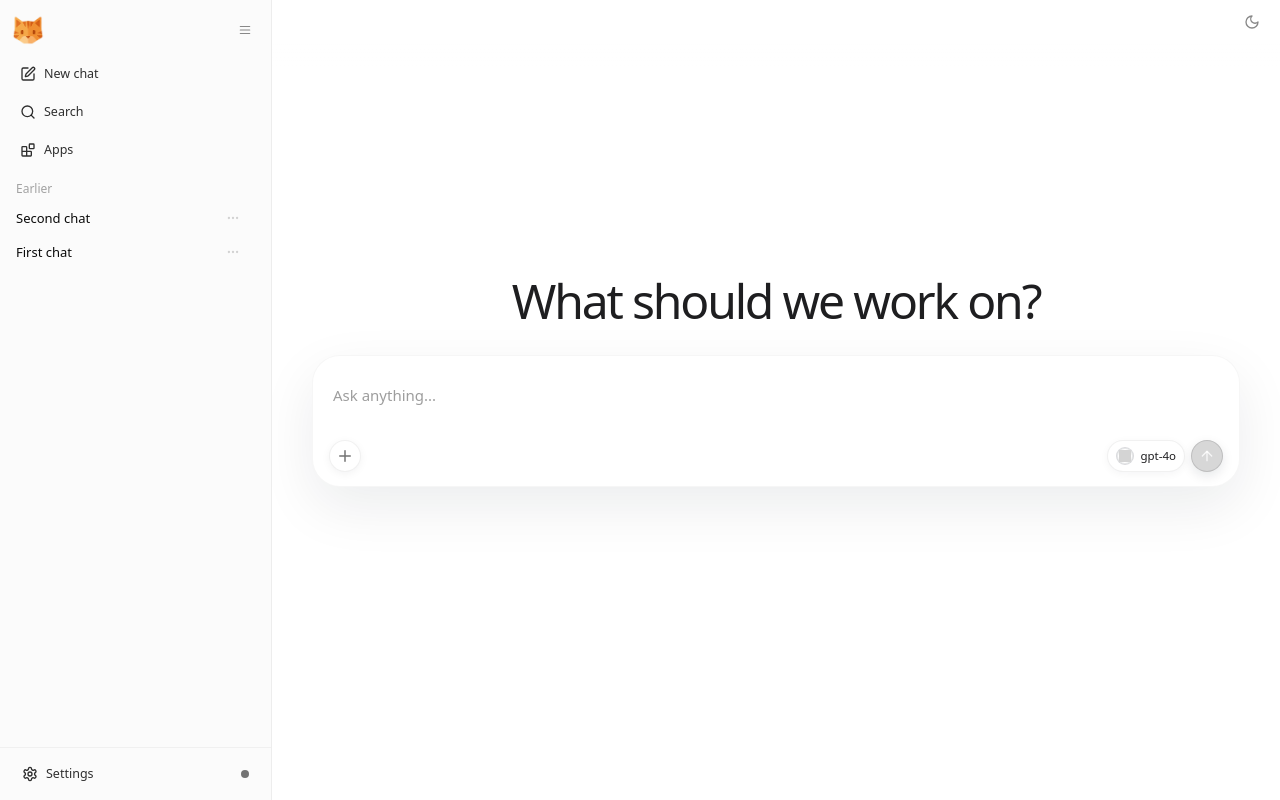
Test: App layout › returns from settings to the blank start page when no session was active
Click the button "New chat": (136, 74) left=8, top=58, right=263, bottom=90
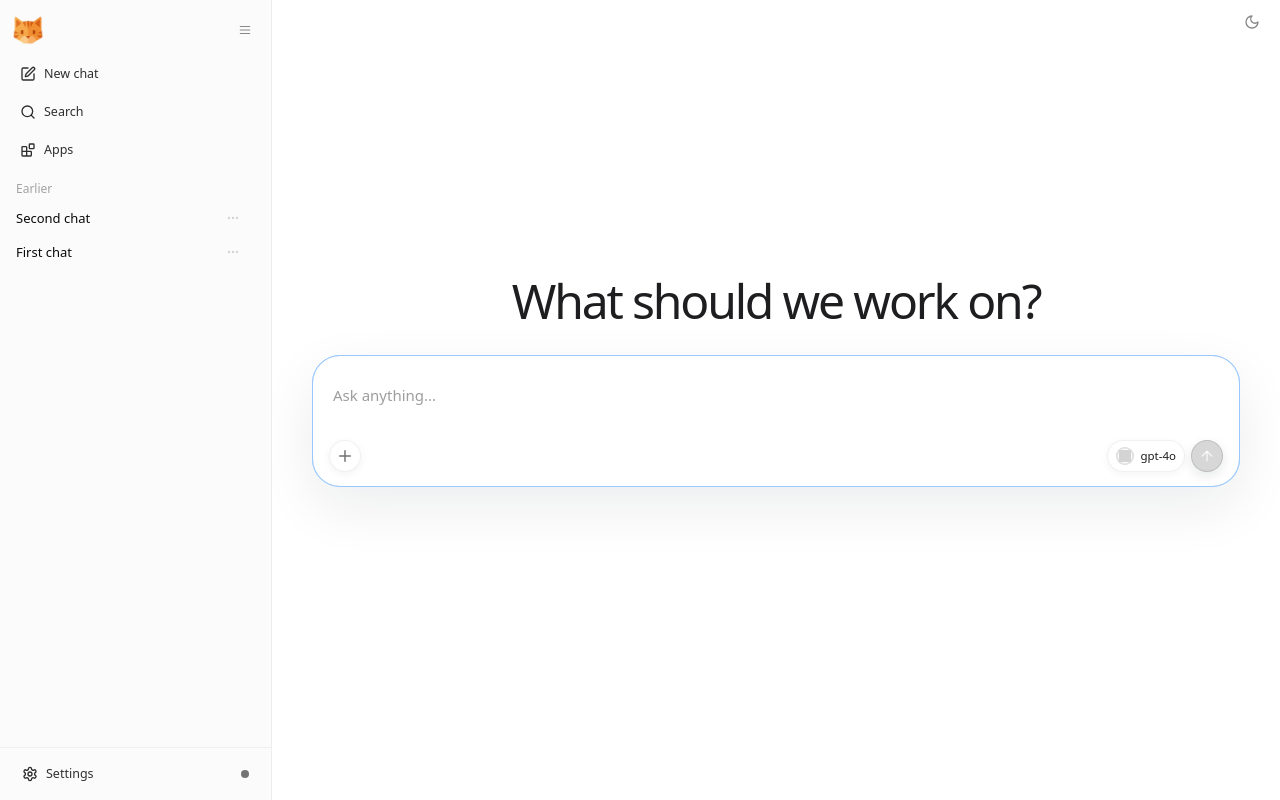
Click the button "Settings": (118, 774) left=10, top=758, right=225, bottom=790
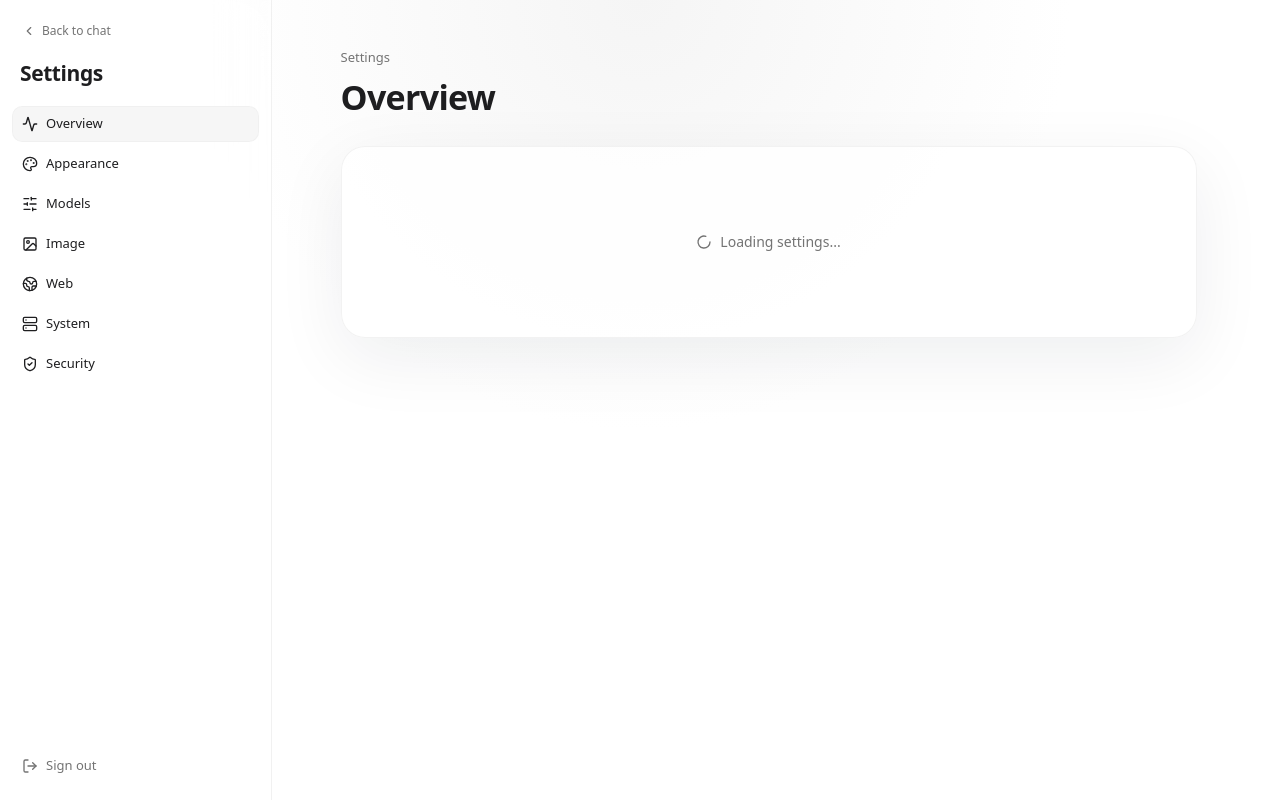
Check: the heading "Overview" is shown, box left=340, top=74, right=495, bottom=120
Click the button "Back to chat": (66, 31) left=12, top=16, right=121, bottom=46
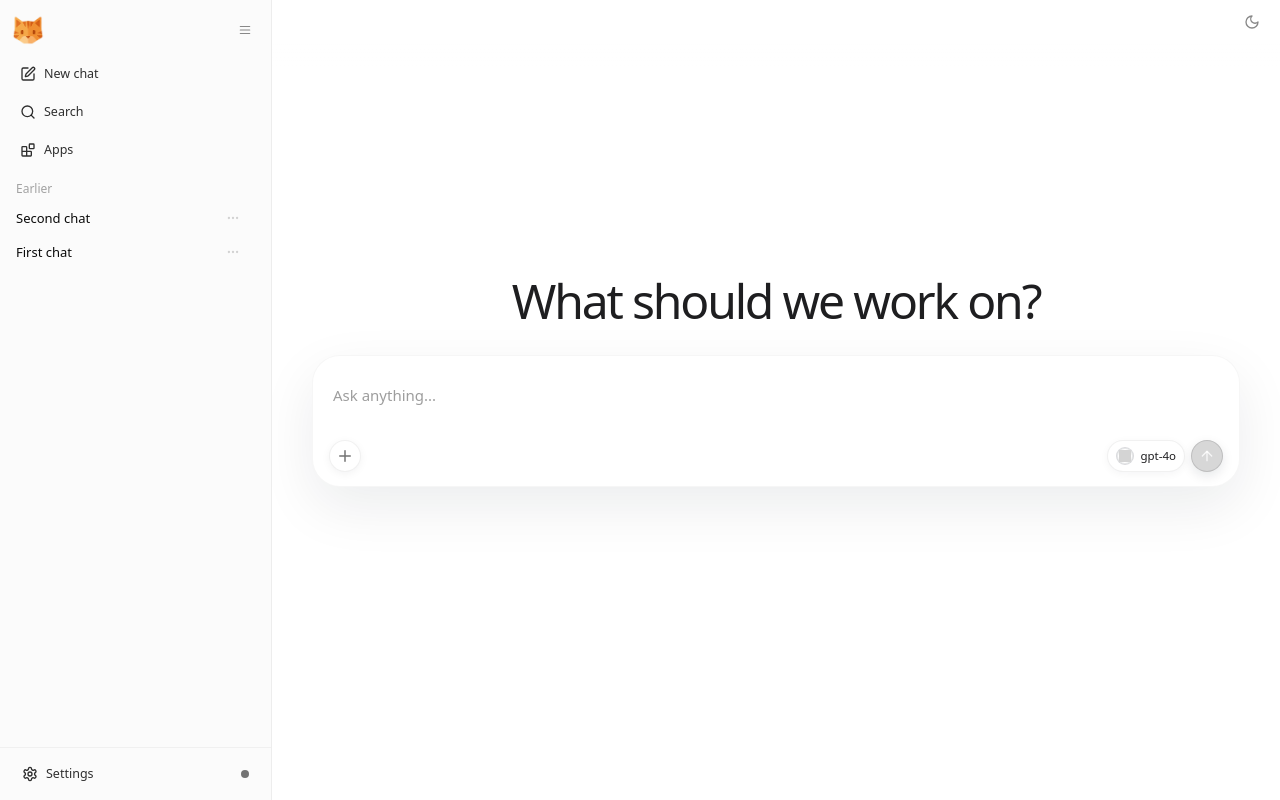
Check: the heading "What should we work on?" is shown, box left=512, top=271, right=1040, bottom=331
